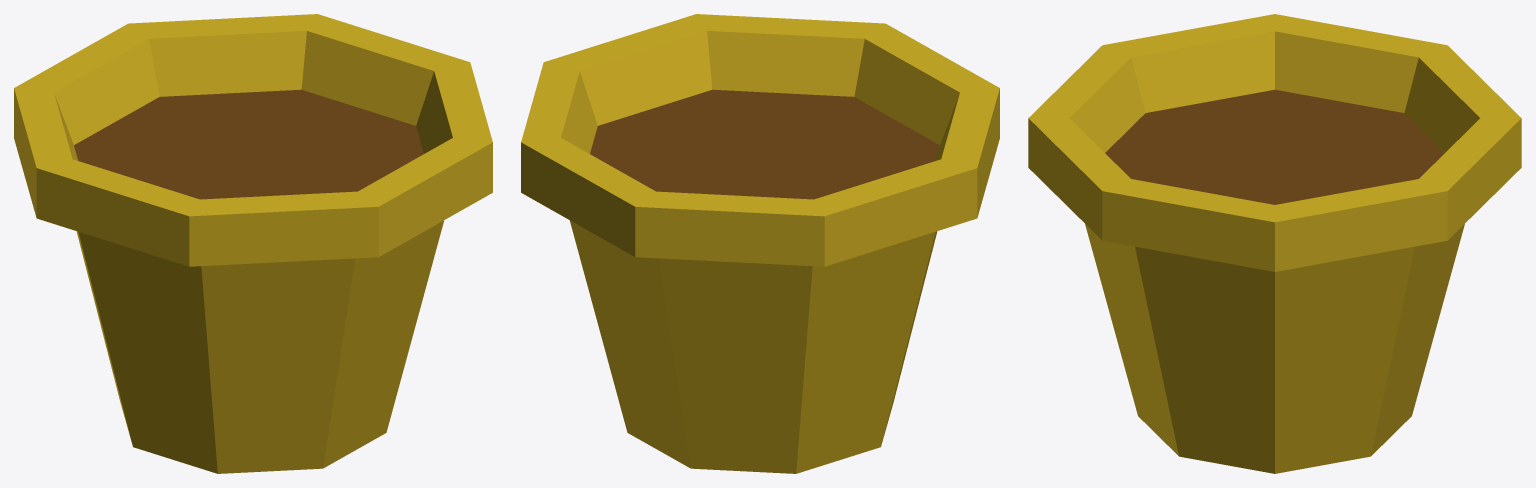
File: plant_pot.fbx
3 renders of one model, left to right at view 1: azimuth 30°, elevation 25°; view 2: azimuth 150°, elevation 25°; view 3: azimuth 270°, elevation 25°, orthographic.
Parts seen in each view (by area): view 1: Cube; view 2: Cube; view 3: Cube.
Part boxes in pixels (x1=…): Cube: x1=14, y1=14, x2=492, y2=473; Cube: x1=521, y1=14, x2=999, y2=473; Cube: x1=1028, y1=14, x2=1521, y2=473.
Bounding box in the file's own units: 900 × 600 × 900.
